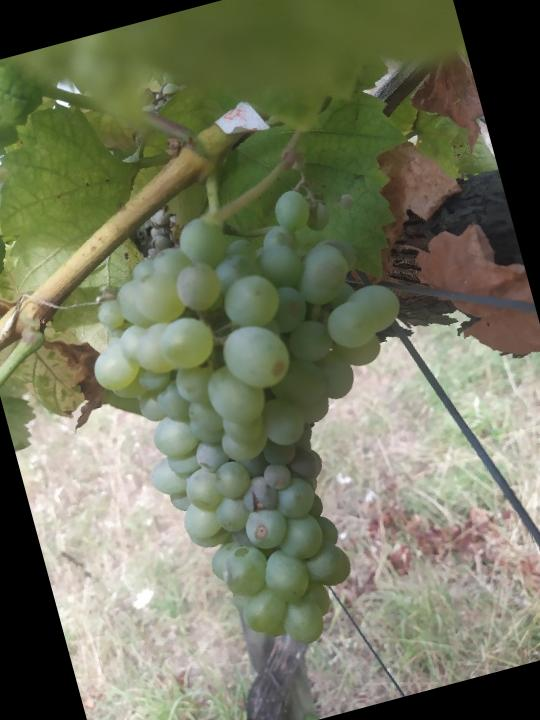grape: (58, 166, 481, 682)
